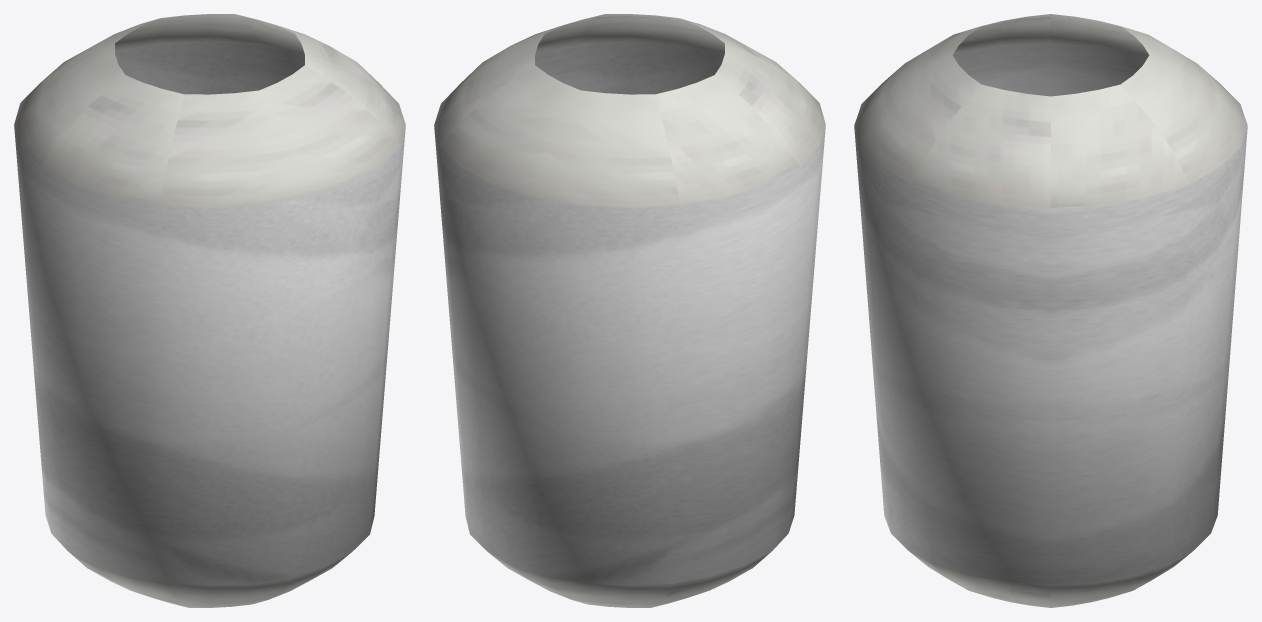
The model's file is human6.obj.
The picture shows the model from 3 angles, left to right: view 1: azimuth 30°, elevation 25°; view 2: azimuth 150°, elevation 25°; view 3: azimuth 270°, elevation 25°; orthographic projection.
Parts seen in each view (by area): view 1: ColobotMesh_1_ColobotMesh_; view 2: ColobotMesh_1_ColobotMesh_; view 3: ColobotMesh_1_ColobotMesh_.
Boxes of the visible parts, x1,y1,x2,y2 form: ColobotMesh_1_ColobotMesh_: [14, 14, 405, 607]; ColobotMesh_1_ColobotMesh_: [434, 14, 825, 607]; ColobotMesh_1_ColobotMesh_: [854, 14, 1247, 607].
Size of the model in its own units: 1.25 by 1.83 by 1.26.
